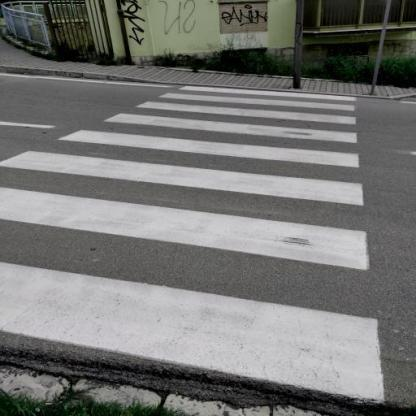crosswalk: (0, 125, 384, 210), (140, 85, 360, 115)
